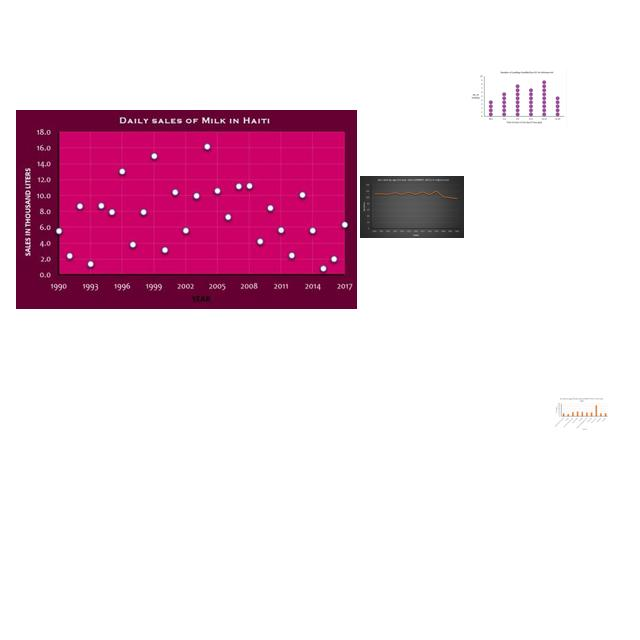Graph: (16, 110, 357, 309), (360, 176, 464, 238), (469, 69, 567, 126), (554, 397, 609, 430)
